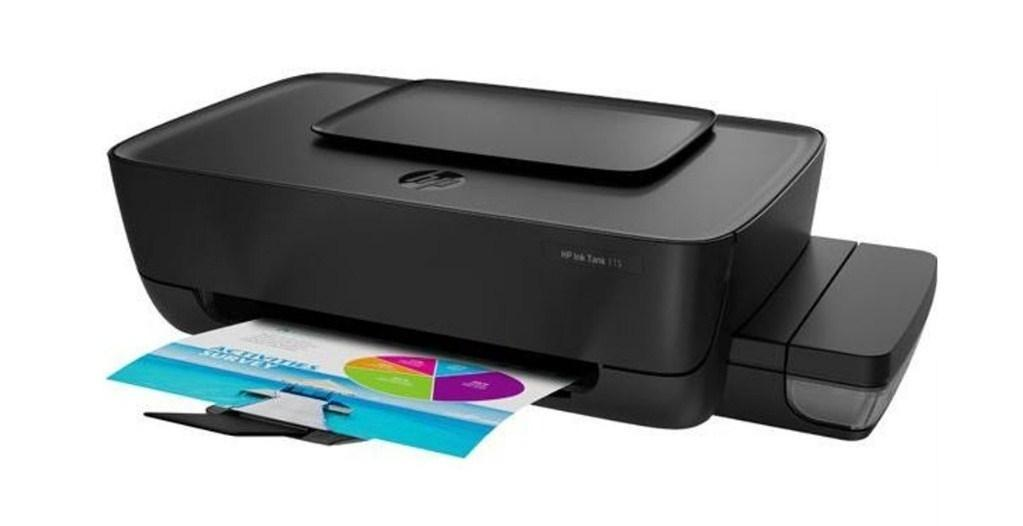Printer: (105, 71, 938, 449)
